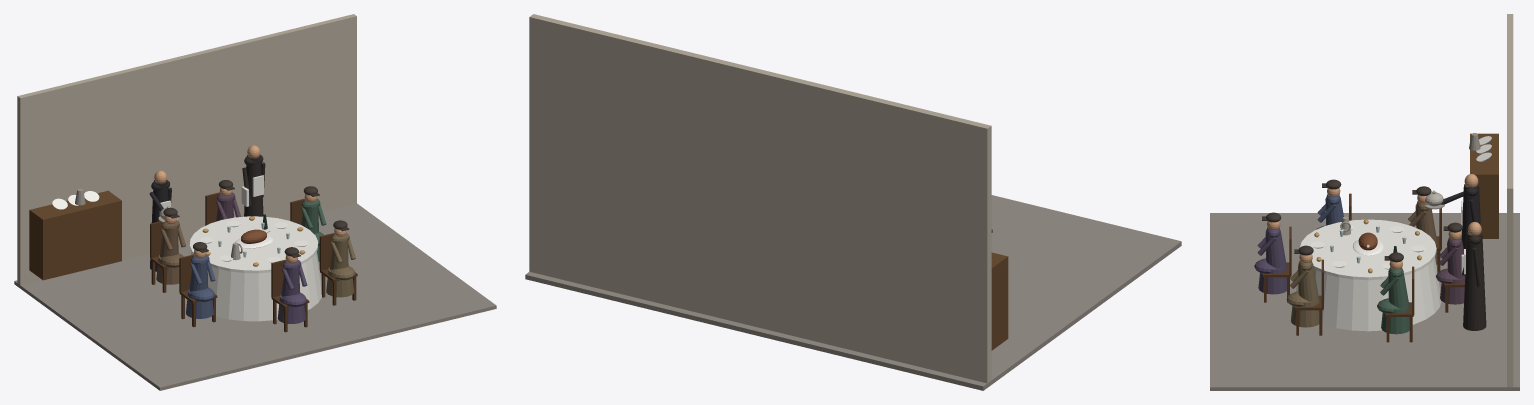
File: scan-fig56-cannibal-islanders-muse.glb
3 renders of one model, left to right at view 1: azimuth 30°, elevation 25°; view 2: azimuth 150°, elevation 25°; view 3: azimuth 270°, elevation 25°, orthographic. The views are drawn at different scales.
Visible parts, largest first — view 1: rear_wall, ground, sideboard, table_top, table_cloth, coat.001, chair_back.004, lap.004, lap.005, chair_back, chair_back.005, lap (+1 smaller); view 2: rear_wall, ground, sideboard; view 3: ground, table_top, table_cloth, rear_wall, sideboard, coat.001, coat, torso.003, torso.005, torso.004, lap.004, lap.005 (+6 smaller).
Part boxes in pixels (x1,y1,x2,y2): rear_wall: (17,14,356,285); ground: (14,203,496,390); sideboard: (29,190,121,280); table_top: (189,216,318,273); table_cloth: (190,252,321,321); coat.001: (244,155,263,216); chair_back.004: (319,233,334,270); lap.004: (326,266,354,297); lap.005: (277,292,305,323); chair_back: (179,254,194,292); chair_back.005: (271,259,285,297); lap: (186,288,213,318); rear_wall: (529,14,991,383); ground: (525,195,1181,390); sideboard: (991,252,1008,350); ground: (1210,213,1519,390); table_top: (1300,219,1436,280); table_cloth: (1296,258,1441,331); rear_wall: (1507,14,1513,387); sideboard: (1470,133,1498,238); coat.001: (1463,232,1486,330); coat: (1461,184,1480,253); torso.003: (1388,270,1409,309); torso.005: (1265,230,1287,270); torso.004: (1298,263,1319,303); lap.004: (1291,299,1319,327); lap.005: (1258,266,1286,294).
Bounding box in the file's own units: 6.4 × 3.46 × 4.8.
